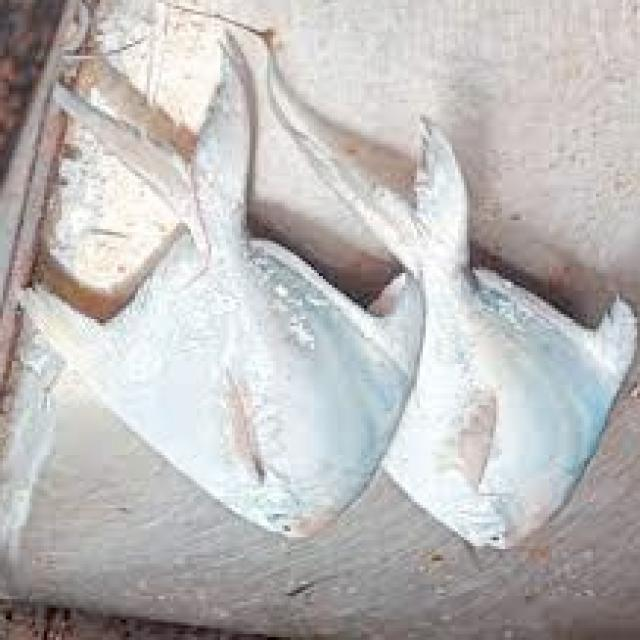pomfred: (10, 42, 421, 544)
